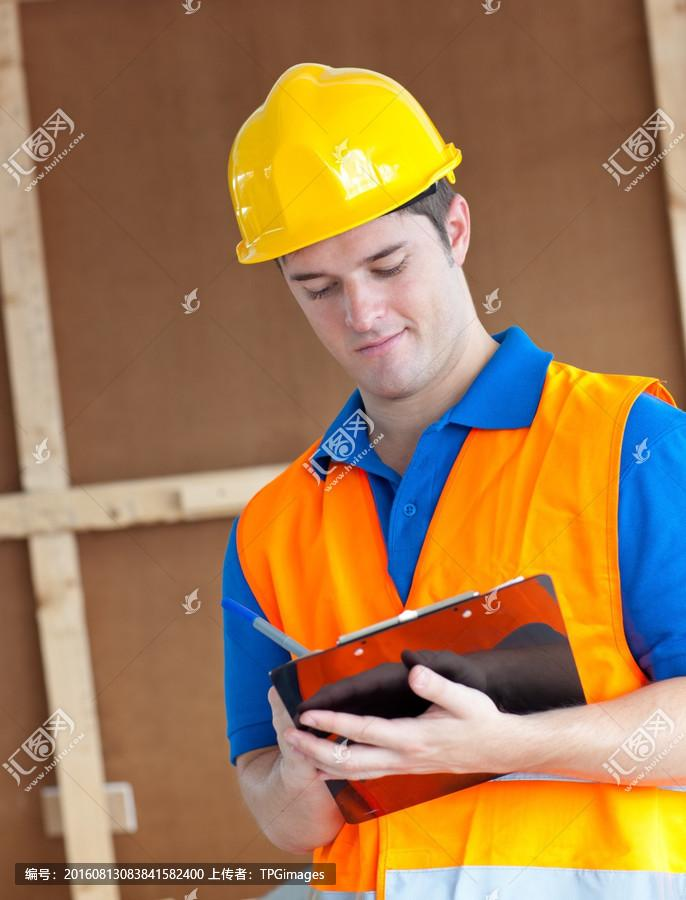helmet: (226, 64, 462, 262)
